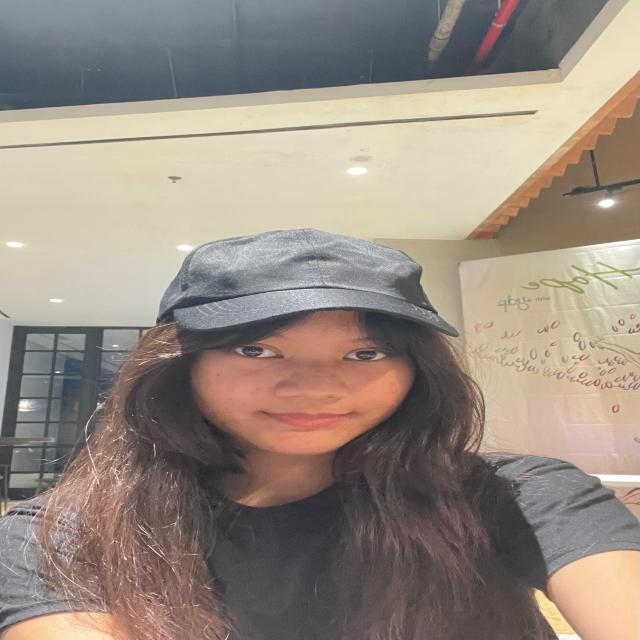3_gorra: (156, 228, 466, 338)
